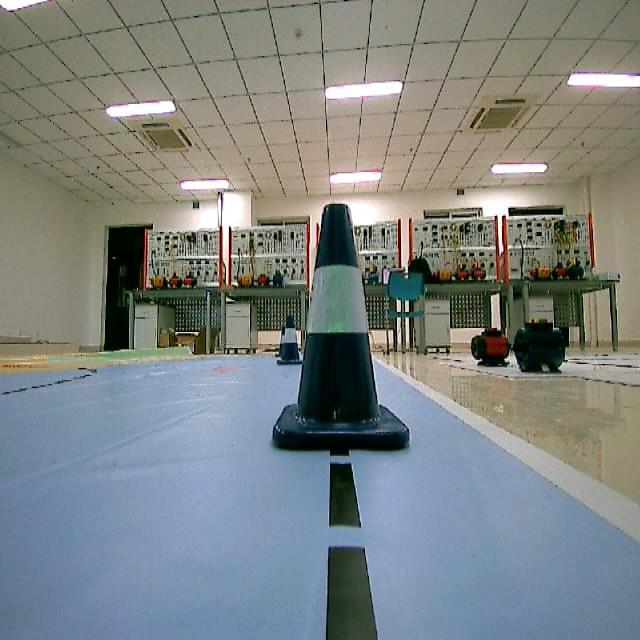obstacle: (274, 201, 422, 468), (274, 316, 305, 372)
